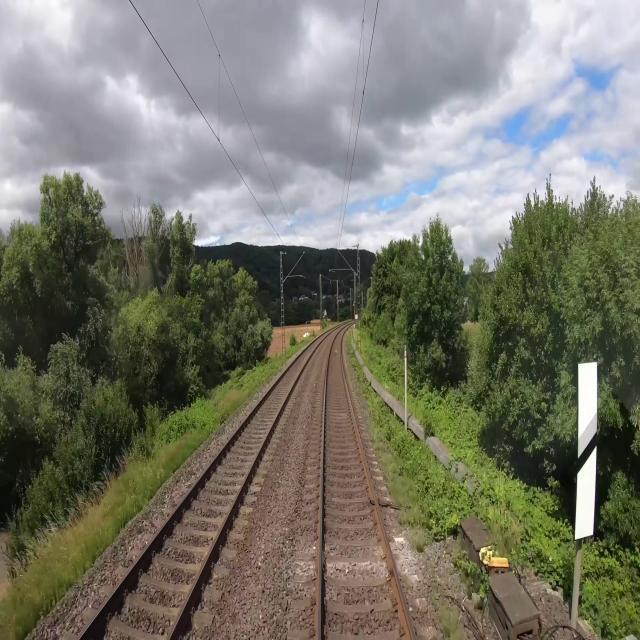Plant: (350, 367, 437, 553), (438, 601, 466, 639)
